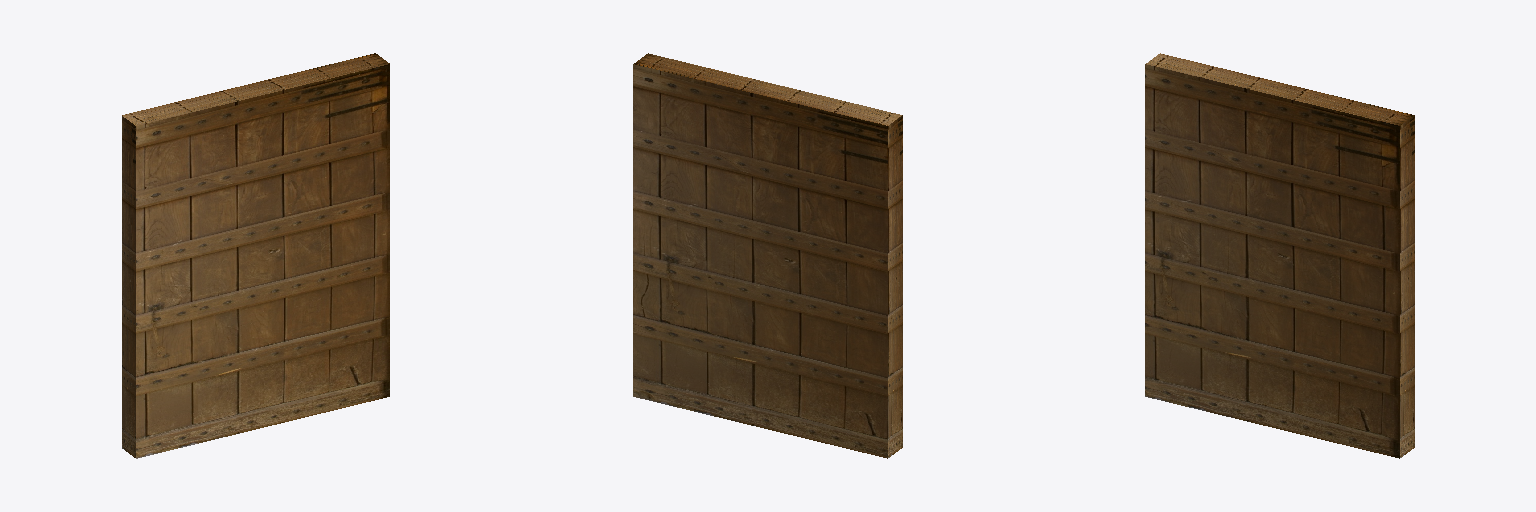
3 views of the same model, side by side, from view 1: azimuth 30°, elevation 25°; view 2: azimuth 150°, elevation 25°; view 3: azimuth 330°, elevation 25° (orthographic).
Visible parts, largest first — view 1: DoorRight; view 2: DoorRight; view 3: DoorRight.
Boxes of the visible parts, x1=… form: DoorRight: x1=122, y1=53, x2=389, y2=458; DoorRight: x1=633, y1=53, x2=902, y2=458; DoorRight: x1=1145, y1=53, x2=1414, y2=458.
Size of the model in its own units: 2 by 2.5 by 0.2026.
1 materials, 1 textured.